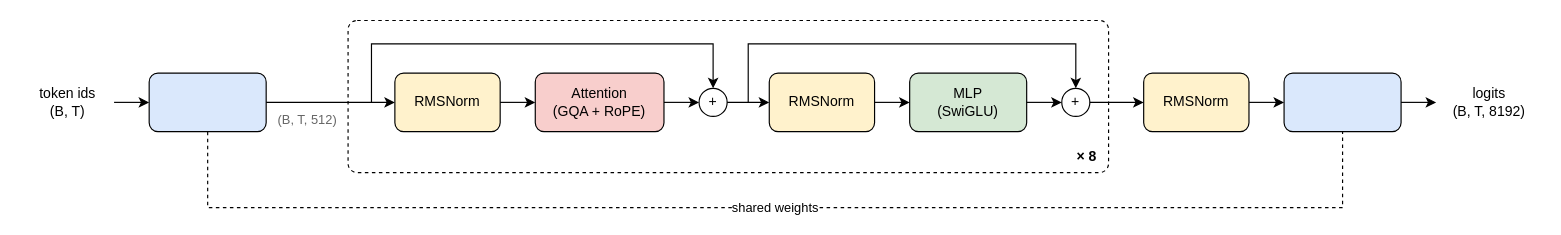
This 1561x235 diagram has some shape labels left out. The centre of each missing label's shape, as x and y in pixels:
Embedding: pixel 207 102
lm_head: pixel 1342 102
